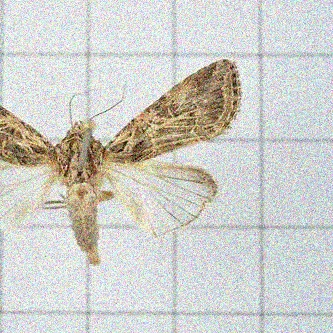Spodoptera litura: (0, 58, 244, 267)
